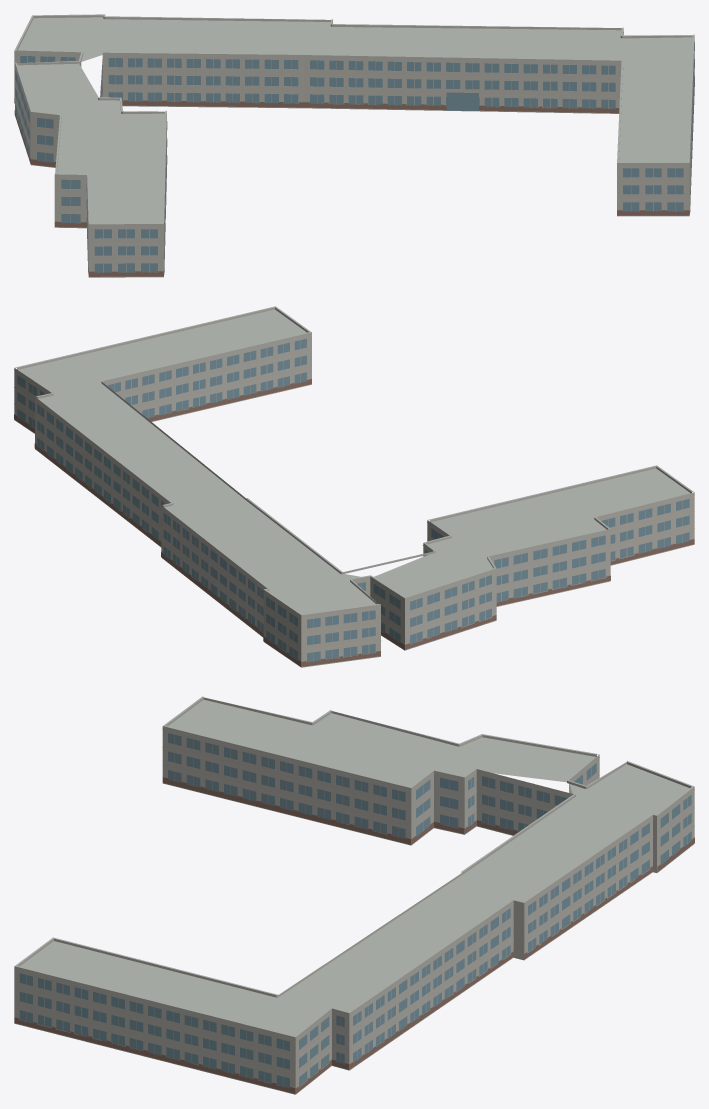
File: public-a30e4f60-f5d1-4f89-b5ff-0a0d62ca7d23.glb
3 renders of one model, top to bottom at view 1: azimuth 30°, elevation 25°; view 2: azimuth 150°, elevation 25°; view 3: azimuth 270°, elevation 25°, orthographic. The views are drawn at different scales.
Visible parts, largest first — view 1: public-a30e4f60-f5d1-4f89-b5ff-0a0d62ca7d23; view 2: public-a30e4f60-f5d1-4f89-b5ff-0a0d62ca7d23; view 3: public-a30e4f60-f5d1-4f89-b5ff-0a0d62ca7d23.
Boxes of the visible parts, <box> form: public-a30e4f60-f5d1-4f89-b5ff-0a0d62ca7d23: <box>14,14,694,277</box>; public-a30e4f60-f5d1-4f89-b5ff-0a0d62ca7d23: <box>14,306,694,667</box>; public-a30e4f60-f5d1-4f89-b5ff-0a0d62ca7d23: <box>14,696,694,1094</box>.
Bounding box in the file's own units: 117 × 9.15 × 98.28.
